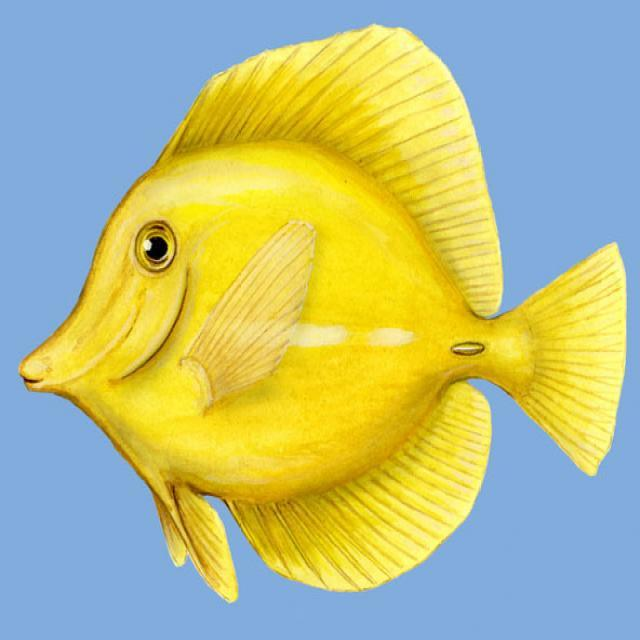YellowTang: (21, 20, 640, 604)
